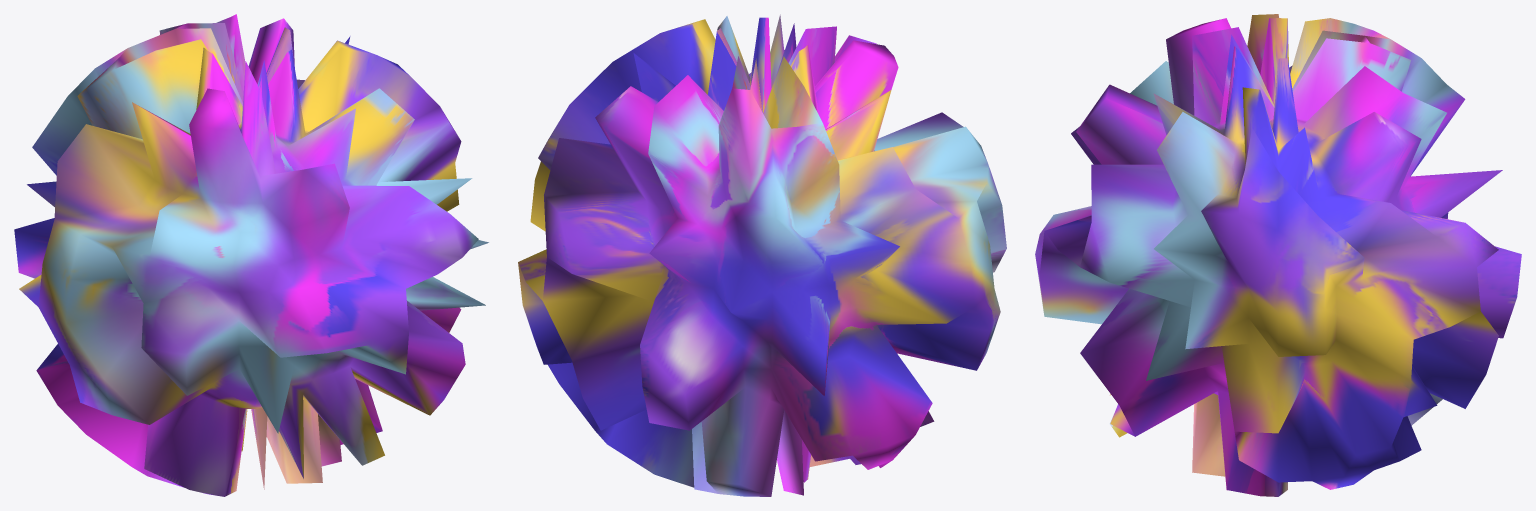
The model's file is blob11.gltf.
3 views of the same model, side by side, from view 1: azimuth 30°, elevation 25°; view 2: azimuth 150°, elevation 25°; view 3: azimuth 270°, elevation 25° (orthographic).
Parts seen in each view (by area): view 1: Sphere; view 2: Sphere; view 3: Sphere.
Boxes of the visible parts, x1,y1,x2,y2 form: Sphere: [14, 14, 488, 496]; Sphere: [518, 14, 1006, 496]; Sphere: [1035, 14, 1521, 496].
Bounding box in the file's own units: 1.11 × 1.08 × 1.11.
Materials: 1 (1 with a texture image).
